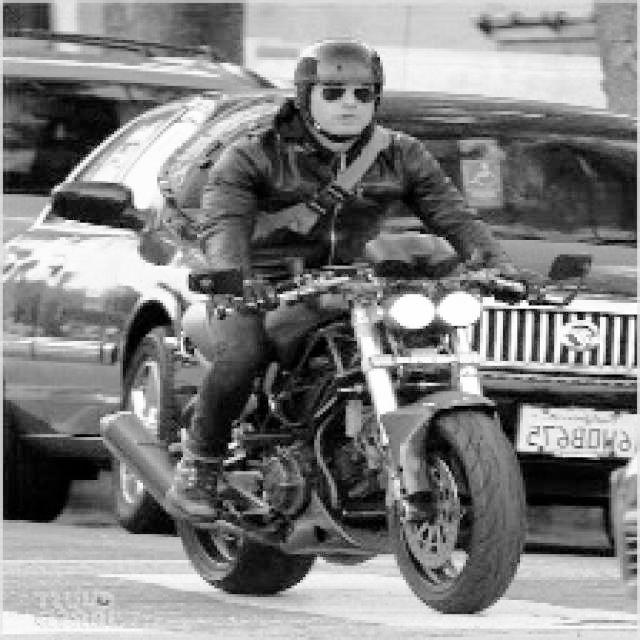Bike: (184, 268, 524, 620)
